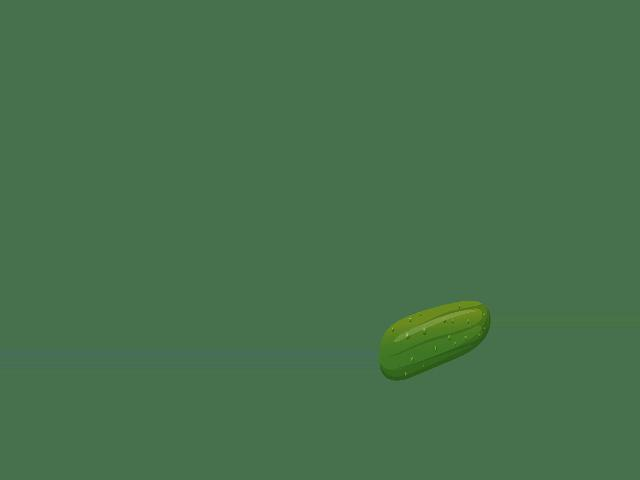cucumber: (378, 301, 490, 381)
